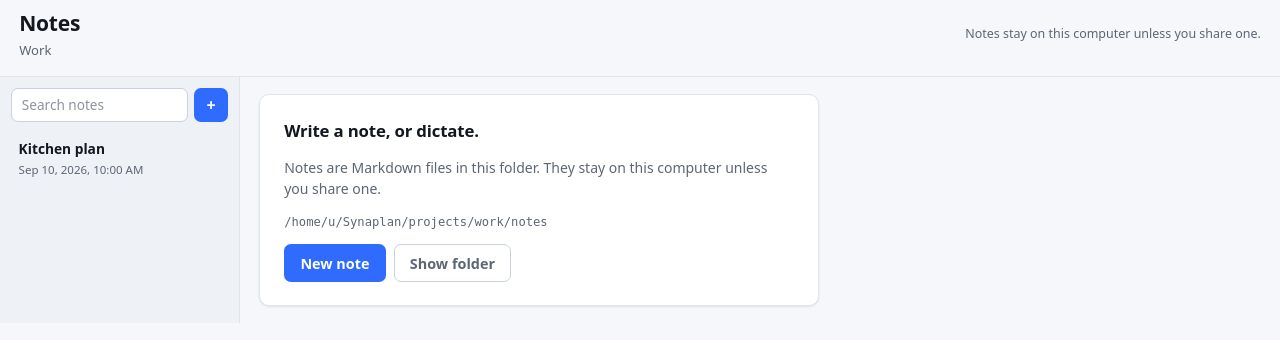
Test: NotesView › creates a note in Rust and opens it
The image size is (1280, 340).
Click the button with test id "note-new" at (211,105), box [194,88,228,122]
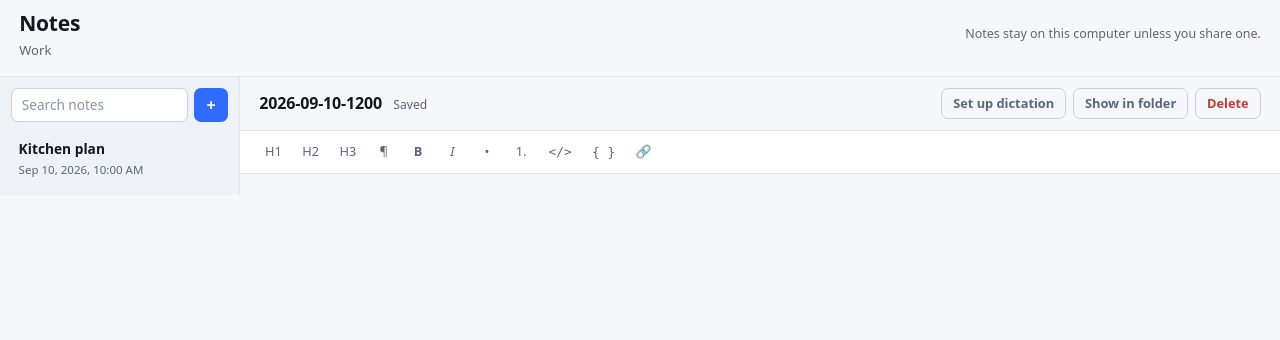
Now the element with test id "note-editor" is shown, box [240,77,1279,195]
Now the element with test id "note-editor" shows "2026-09-10-1200", box [259,92,382,114]
